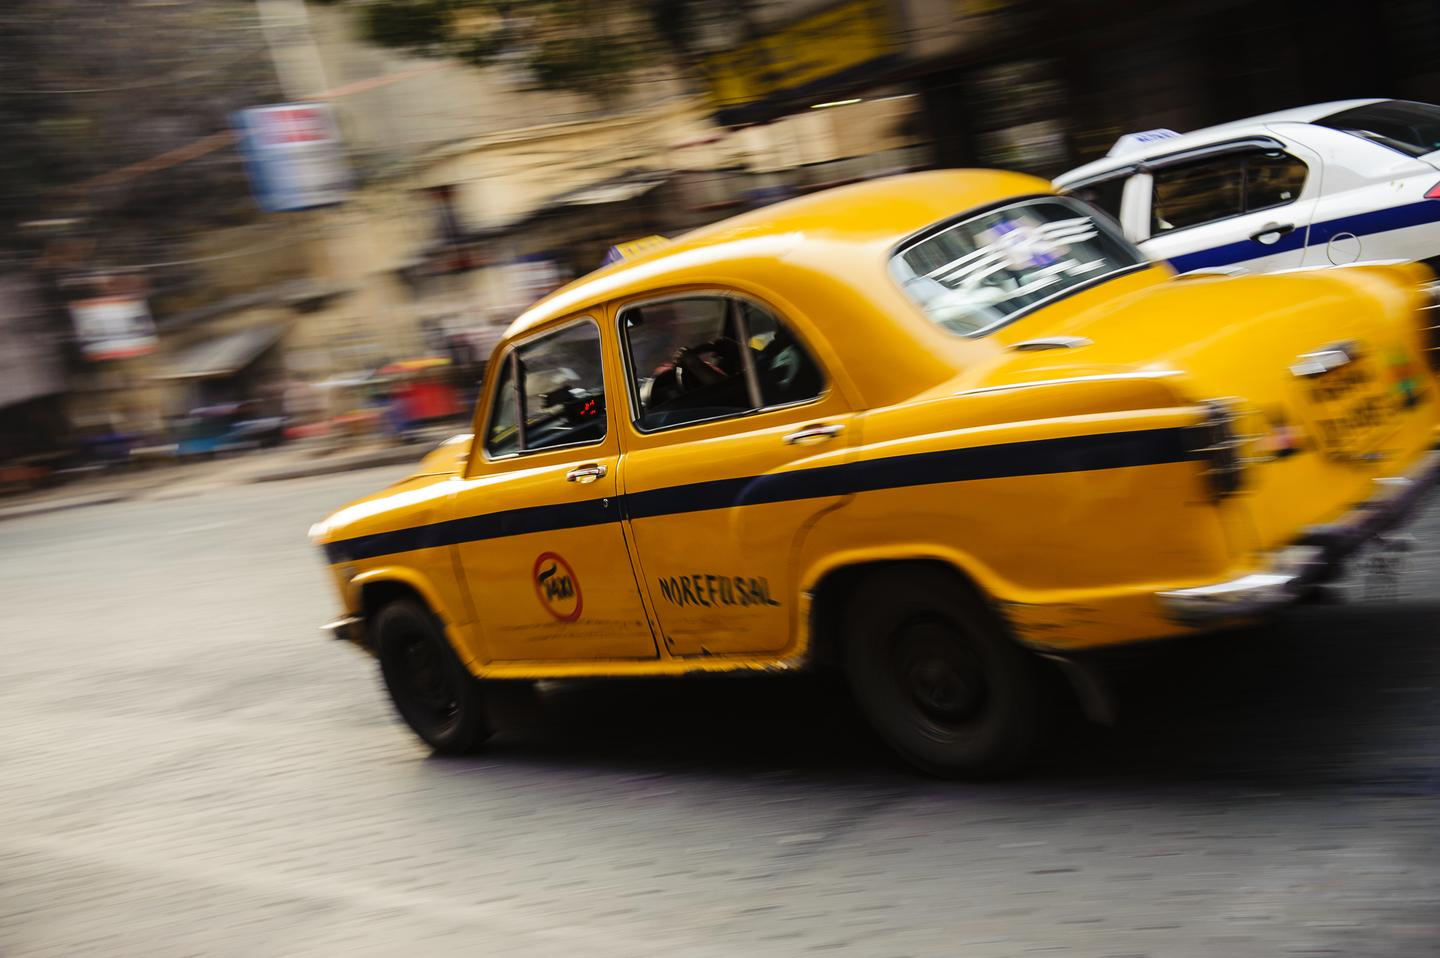taxi: (239, 176, 1440, 766)
